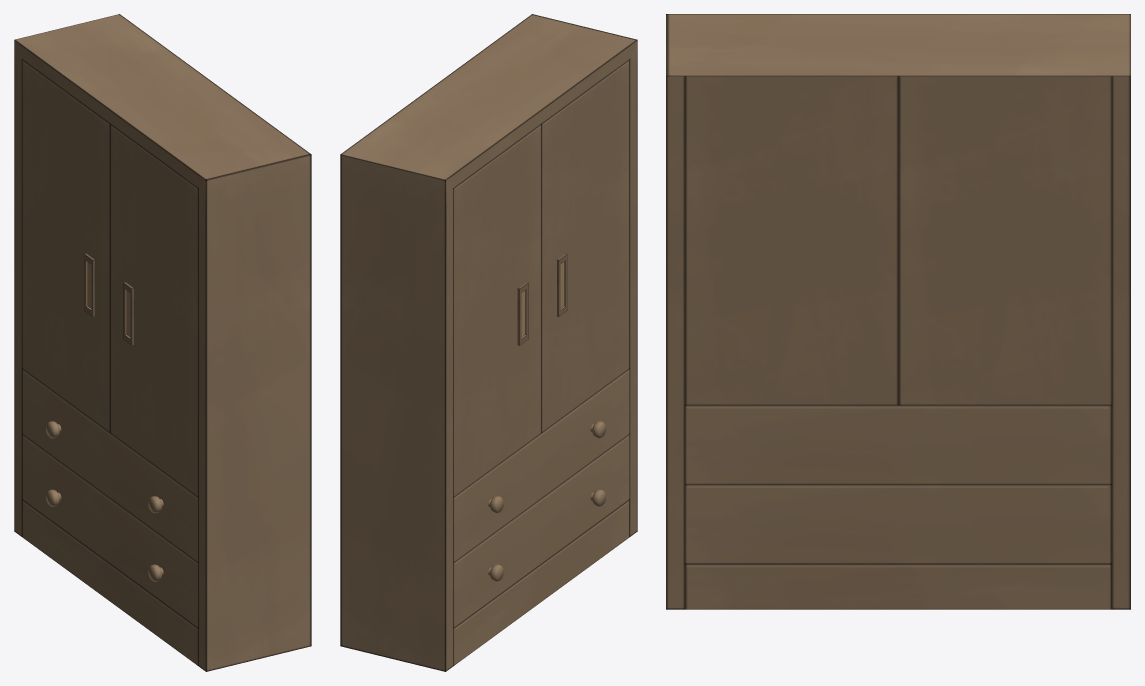
The model's file is wardrobe.fbx.
The picture shows the model from 3 angles, left to right: view 1: azimuth 30°, elevation 25°; view 2: azimuth 150°, elevation 25°; view 3: azimuth 270°, elevation 25°; orthographic projection. The views are drawn at different scales.
Parts seen in each view (by area): view 1: polySurface1540; view 2: polySurface1540; view 3: polySurface1540.
Part boxes in pixels (left/top/right/bottom): polySurface1540: left=14, top=14, right=311, bottom=671; polySurface1540: left=340, top=14, right=637, bottom=671; polySurface1540: left=666, top=14, right=1130, bottom=609.
Size of the model in its own units: 0.6655 by 2.69 by 1.9.
